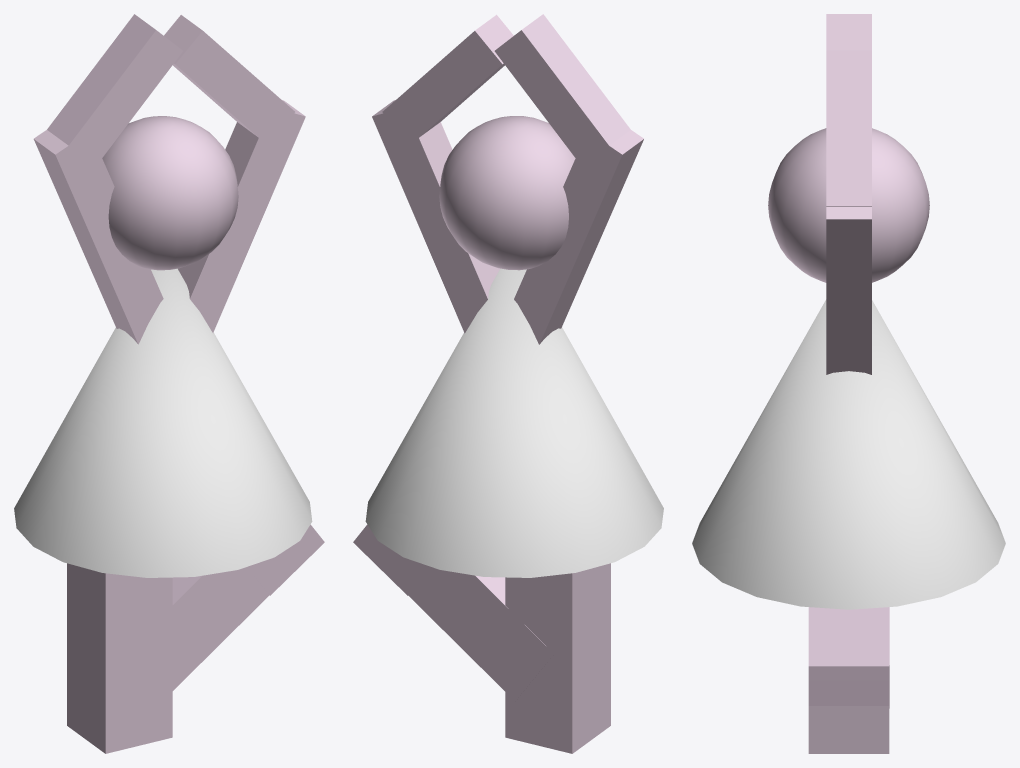
Rendered from Ballerina Model.fbx.
The picture shows the model from 3 angles, left to right: view 1: azimuth 30°, elevation 25°; view 2: azimuth 150°, elevation 25°; view 3: azimuth 270°, elevation 25°; orthographic projection. The views are drawn at different scales.
Parts seen in each view (by area): view 1: pCube8; view 2: pCube8; view 3: pCube8.
Boxes of the visible parts, x1,y1,x2,y2 form: pCube8: (14,14,324,753); pCube8: (353,14,663,753); pCube8: (692,14,1005,753).
Bounding box in the file's own units: 4.07 × 10.04 × 3.88.
